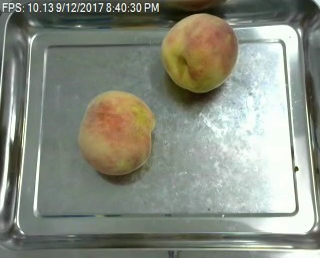Peach: (77, 89, 155, 175), (160, 13, 239, 92)
